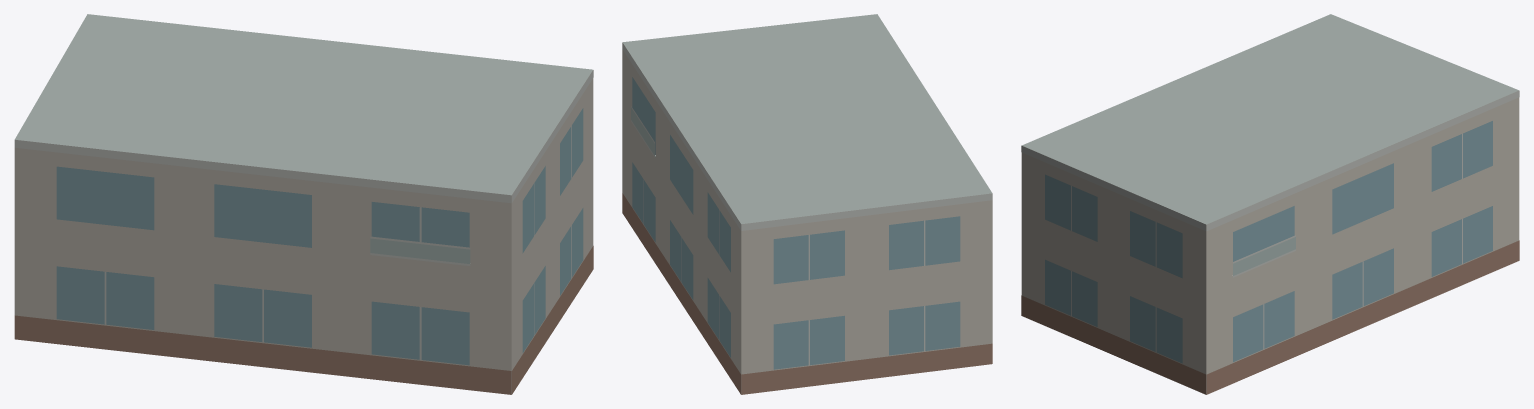
The model's file is survey-upis-32661521.glb.
3 renders of one model, left to right at view 1: azimuth 30°, elevation 25°; view 2: azimuth 150°, elevation 25°; view 3: azimuth 270°, elevation 25°, orthographic. The views are drawn at different scales.
Visible parts, largest first — view 1: survey-upis-32661521.tmp; view 2: survey-upis-32661521.tmp; view 3: survey-upis-32661521.tmp.
Boxes of the visible parts, left/top/right/bottom form: survey-upis-32661521.tmp: left=14, top=14, right=593, bottom=394; survey-upis-32661521.tmp: left=622, top=14, right=992, bottom=394; survey-upis-32661521.tmp: left=1021, top=14, right=1519, bottom=394.
Size of the model in its own units: 16.19 by 6.1 by 16.17.
